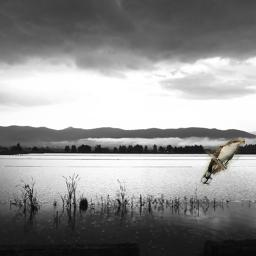Cuckoo: (199, 139, 245, 186)
